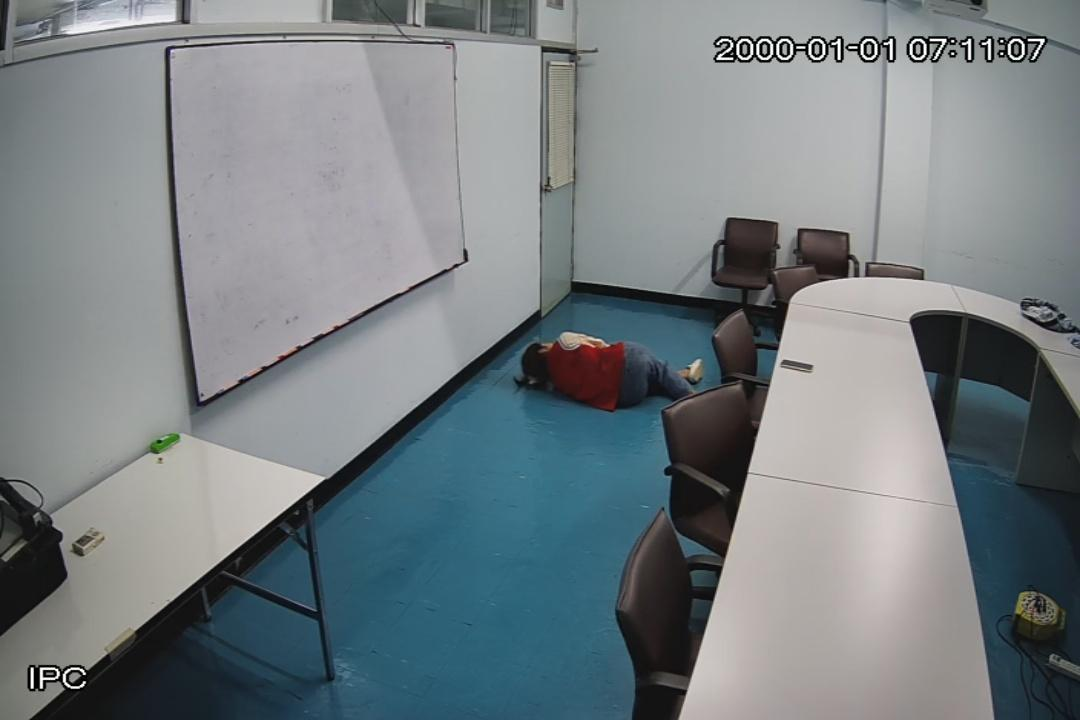fall: (522, 331, 704, 407)
